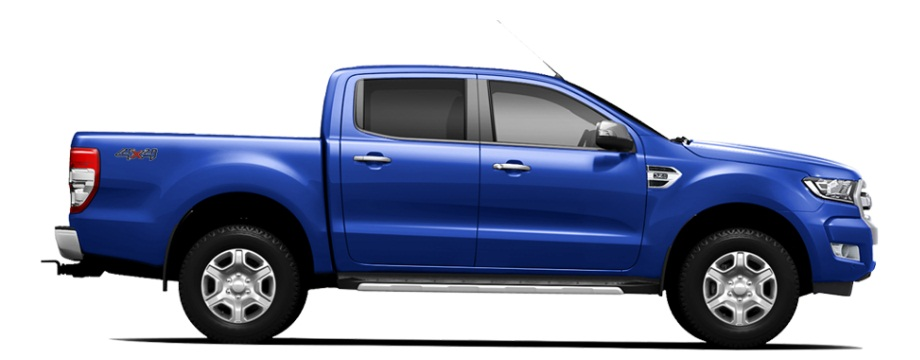pickup: (39, 62, 883, 350)
